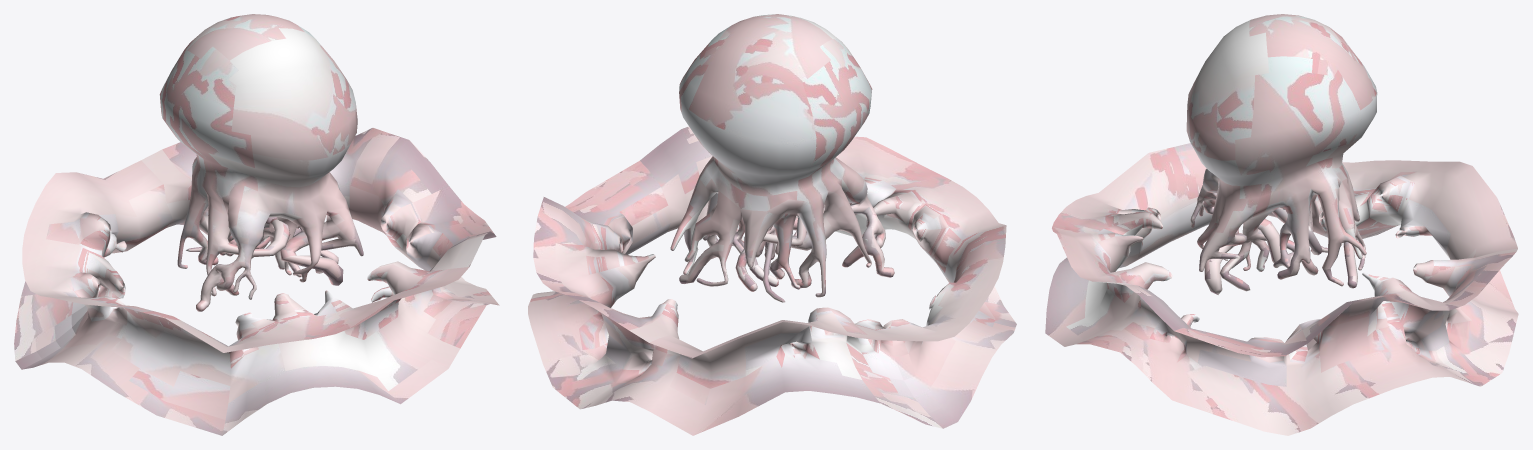
Rendered from Leukocyte 1.fbx.
The picture shows the model from 3 angles, left to right: view 1: azimuth 30°, elevation 25°; view 2: azimuth 150°, elevation 25°; view 3: azimuth 270°, elevation 25°; orthographic projection. The views are drawn at different scales.
Visible parts, largest first — view 1: Leukocyte_Net, Leukocyte; view 2: Leukocyte_Net, Leukocyte; view 3: Leukocyte_Net, Leukocyte.
Boxes of the visible parts, left/top/right/bottom form: Leukocyte_Net: left=14, top=128, right=499, bottom=435; Leukocyte: left=159, top=14, right=363, bottom=311; Leukocyte_Net: left=528, top=126, right=1016, bottom=435; Leukocyte: left=670, top=14, right=894, bottom=302; Leukocyte_Net: left=1045, top=143, right=1518, bottom=435; Leukocyte: left=1186, top=14, right=1377, bottom=294.
Bounding box in the file's own units: 614 × 445 × 605.
